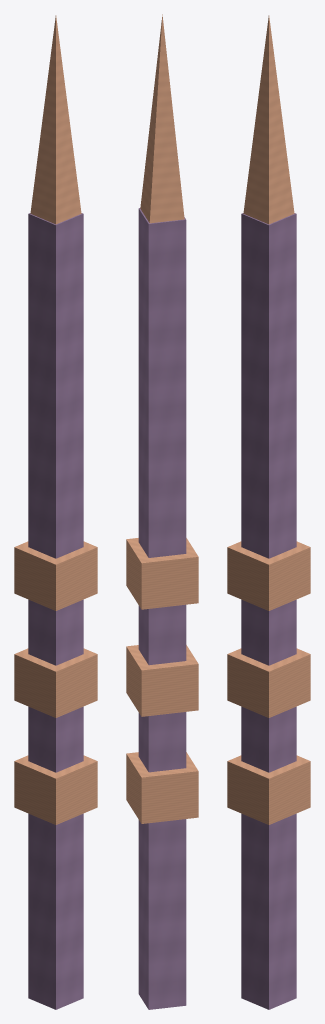
File: atlas100-s085-a05.glb
3 views of the same model, side by side, from view 1: azimuth 90°, elevation 25°; view 2: azimuth 150°, elevation 25°; view 3: azimuth 270°, elevation 25° (orthographic).
Parts seen in each view (by area): view 1: atlas100-s085-a05:part-000, atlas100-s085-a05:part-004, atlas100-s085-a05:part-002, atlas100-s085-a05:part-001, atlas100-s085-a05:part-003; view 2: atlas100-s085-a05:part-000, atlas100-s085-a05:part-004, atlas100-s085-a05:part-001, atlas100-s085-a05:part-002, atlas100-s085-a05:part-003; view 3: atlas100-s085-a05:part-000, atlas100-s085-a05:part-004, atlas100-s085-a05:part-002, atlas100-s085-a05:part-001, atlas100-s085-a05:part-003.
Boxes of the visible parts, x1=… form: atlas100-s085-a05:part-000: x1=28, y1=213, x2=83, y2=1009; atlas100-s085-a05:part-004: x1=30, y1=15, x2=81, y2=224; atlas100-s085-a05:part-002: x1=14, y1=648, x2=97, y2=717; atlas100-s085-a05:part-001: x1=14, y1=755, x2=97, y2=824; atlas100-s085-a05:part-003: x1=14, y1=541, x2=97, y2=610; atlas100-s085-a05:part-000: x1=138, y1=208, x2=186, y2=1009; atlas100-s085-a05:part-004: x1=140, y1=14, x2=184, y2=223; atlas100-s085-a05:part-001: x1=126, y1=752, x2=198, y2=823; atlas100-s085-a05:part-002: x1=126, y1=645, x2=198, y2=716; atlas100-s085-a05:part-003: x1=126, y1=538, x2=198, y2=609; atlas100-s085-a05:part-000: x1=241, y1=213, x2=296, y2=1009; atlas100-s085-a05:part-004: x1=243, y1=15, x2=294, y2=224; atlas100-s085-a05:part-002: x1=227, y1=648, x2=310, y2=717; atlas100-s085-a05:part-001: x1=227, y1=755, x2=310, y2=824; atlas100-s085-a05:part-003: x1=227, y1=541, x2=310, y2=610.
Bounding box in the file's own units: 0.1158 × 1.51 × 0.1158.
2 materials, 2 textured.
